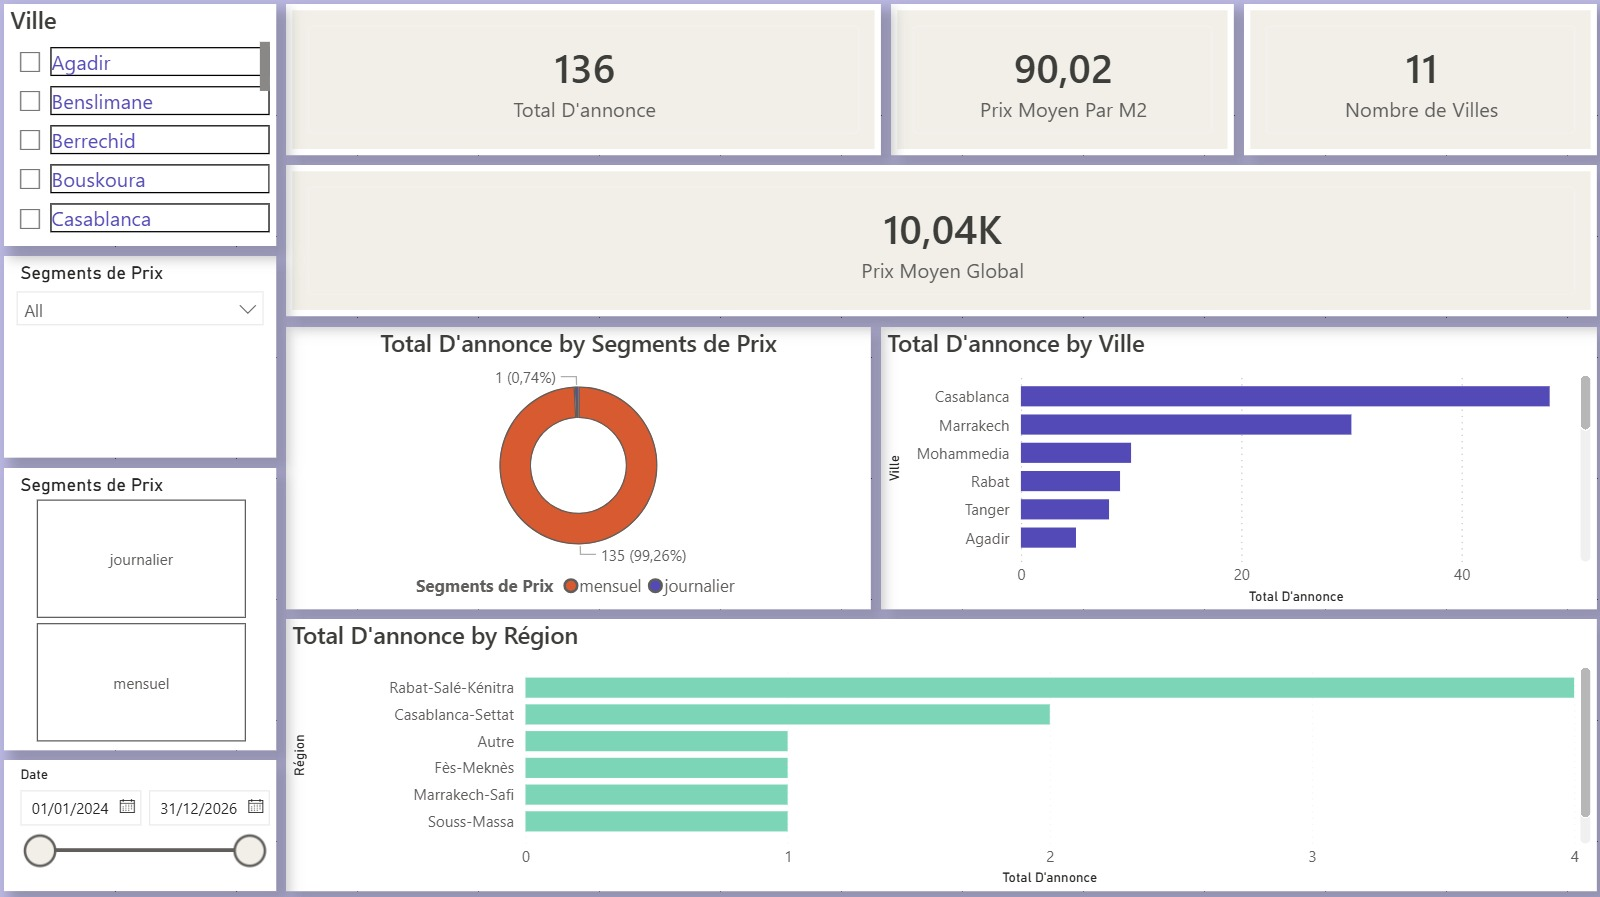

The page's visual inventory and layout, read from the dashboard file:
{"tool":"powerbi","page":{"name":"Page 1","canvas":[1280,720],"ordinal":0},"visuals":[{"type":"cardVisual","fields":{"Data":["_mesures.Prix_Moyen_M2"]},"box":[712,8,272,120],"z":0},{"type":"cardVisual","fields":{"Data":["_mesures.Nb_Annonces"]},"box":[232,8,472,120],"z":1000},{"type":"cardVisual","fields":{"Data":["_mesures.Nb_Villes"]},"box":[992,8,280,120],"z":2000},{"type":"clusteredBarChart","fields":{"Y":["_mesures.Nb_Annonces"],"Category":["bi_schema dim_localisation.ville"]},"box":[704,264,568,224],"z":3000},{"type":"donutChart","fields":{"Category":["bi_schema fact_annonce.prix_type"],"Y":["_mesures.Nb_Annonces"]},"box":[232,264,464,224],"z":5000},{"type":"cardVisual","fields":{"Data":["_mesures.Prix_Moyen"]},"box":[232,136,1040,120],"z":6000},{"type":"clusteredBarChart","fields":{"Y":["_mesures.Nb_Villes"],"Category":["bi_schema v_annonces_full.region_label"]},"box":[232,496,1040,216],"z":7000},{"type":"slicer","fields":{"Values":["bi_schema fact_annonce.categorie_prix"]},"box":[8,208,216,160],"z":7001},{"type":"slicer","title":"Ville","fields":{"Values":["bi_schema dim_localisation.ville"]},"box":[8,8,216,192],"z":7002},{"type":"slicer","fields":{"Values":["bi_schema fact_annonce.prix_type"]},"box":[8,376,216,224],"z":7003},{"type":"slicer","fields":{"Values":["Calendrier.Date"]},"box":[8,608,216,104],"z":7004}]}

Visuals, with their boxes in screenshot pixels (x1, y1, x2, y2), scaled from the page's 1280x720 canvas onto the 1600x897 screenshot:
cardVisual - _mesures.Prix_Moyen_M2: <bbox>890, 10, 1230, 159</bbox>
cardVisual - _mesures.Nb_Annonces: <bbox>290, 10, 880, 159</bbox>
cardVisual - _mesures.Nb_Villes: <bbox>1240, 10, 1590, 159</bbox>
clusteredBarChart - _mesures.Nb_Annonces x bi_schema dim_localisation.ville: <bbox>880, 329, 1590, 608</bbox>
donutChart - bi_schema fact_annonce.prix_type x _mesures.Nb_Annonces: <bbox>290, 329, 870, 608</bbox>
cardVisual - _mesures.Prix_Moyen: <bbox>290, 169, 1590, 319</bbox>
clusteredBarChart - _mesures.Nb_Villes x bi_schema v_annonces_full.region_label: <bbox>290, 618, 1590, 887</bbox>
slicer - bi_schema fact_annonce.categorie_prix: <bbox>10, 259, 280, 458</bbox>
"Ville" slicer: <bbox>10, 10, 280, 249</bbox>
slicer - bi_schema fact_annonce.prix_type: <bbox>10, 468, 280, 748</bbox>
slicer - Calendrier.Date: <bbox>10, 757, 280, 887</bbox>
